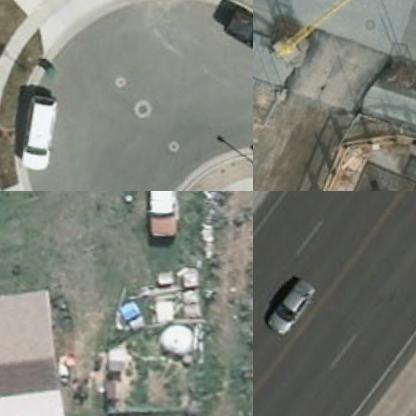car: (259, 278, 316, 344), (11, 95, 56, 176), (137, 191, 184, 246)
pickup: (213, 6, 252, 87)
